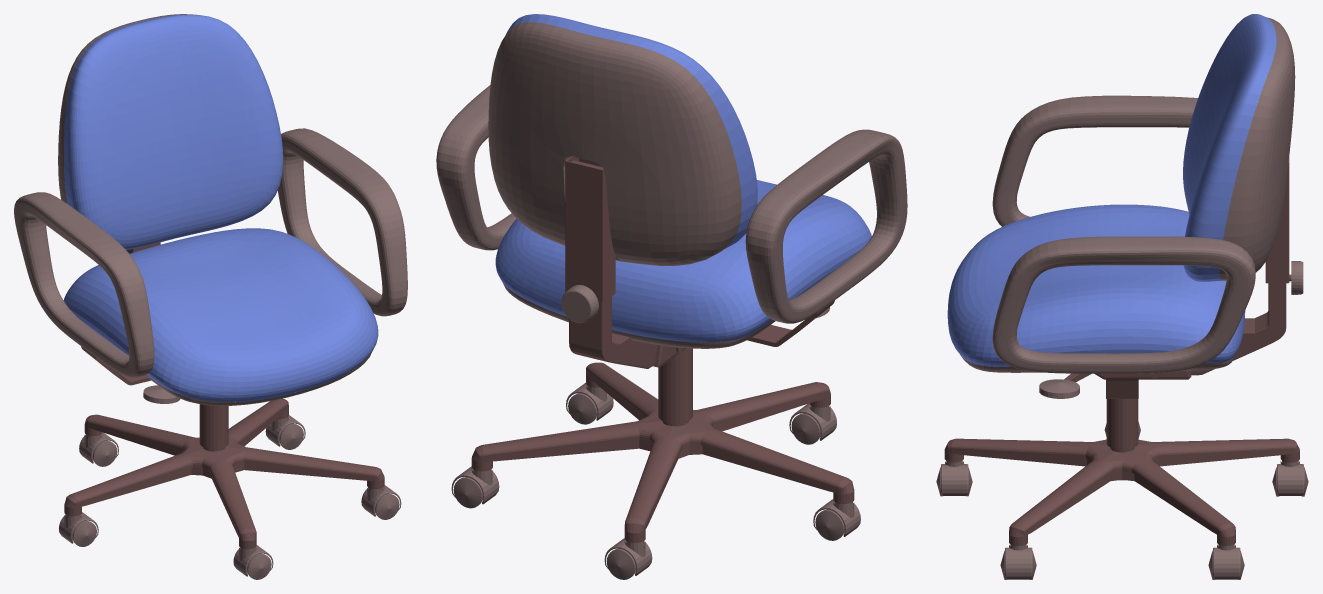
File: kl-office-chair.glb
3 views of the same model, side by side, from view 1: azimuth 30°, elevation 25°; view 2: azimuth 150°, elevation 25°; view 3: azimuth 270°, elevation 25° (orthographic). The views are drawn at different scales.
Parts seen in each view (by area): view 1: Office_CH_back_Office_CH_back_Office_CH_fabric, Office_CH_seat_Office_CH_seat_Office_CH_fabric, Office_CH_arms, Office_CH_base, Office_CH_wheels, Office_CH_post, Office_CH_back_Office_CH_back_Office_CH_plastic, Office_CH_seat_Office_CH_seat_Office_CH_plastic; view 2: Office_CH_back_Office_CH_back_Office_CH_plastic, Office_CH_seat_Office_CH_seat_Office_CH_fabric, Office_CH_arms, Office_CH_base, Office_CH_back_post, Office_CH_wheels, Office_CH_back_Office_CH_back_Office_CH_fabric, Office_CH_post, Office_CH_seat_Office_CH_seat_Office_CH_plastic, Office_CH_mount, Office_CH_knobs_Office_CH_knobs_Office_CH_plastic; view 3: Office_CH_seat_Office_CH_seat_Office_CH_fabric, Office_CH_arms, Office_CH_base, Office_CH_back_Office_CH_back_Office_CH_fabric, Office_CH_back_Office_CH_back_Office_CH_plastic, Office_CH_wheels, Office_CH_back_post, Office_CH_post, Office_CH_mount, Office_CH_knobs_Office_CH_knobs_Office_CH_plastic, Office_CH_seat_Office_CH_seat_Office_CH_plastic.
Part boxes in pixels (x1,y1,x2,y2): Office_CH_back_Office_CH_back_Office_CH_fabric: (64,14,283,249); Office_CH_seat_Office_CH_seat_Office_CH_fabric: (63,228,378,401); Office_CH_arms: (14,128,407,377); Office_CH_base: (64,398,384,549); Office_CH_wheels: (59,415,401,579); Office_CH_post: (199,404,228,451); Office_CH_back_Office_CH_back_Office_CH_plastic: (58,14,192,203); Office_CH_seat_Office_CH_seat_Office_CH_plastic: (145,353,371,405); Office_CH_back_Office_CH_back_Office_CH_plastic: (488,22,741,265); Office_CH_seat_Office_CH_seat_Office_CH_fabric: (495,180,871,342); Office_CH_arms: (436,85,907,323); Office_CH_base: (471,362,854,542); Office_CH_back_post: (565,156,657,368); Office_CH_wheels: (451,383,860,579); Office_CH_back_Office_CH_back_Office_CH_fabric: (506,14,757,248); Office_CH_post: (658,348,692,426); Office_CH_seat_Office_CH_seat_Office_CH_plastic: (503,283,775,348); Office_CH_mount: (653,300,834,367); Office_CH_knobs_Office_CH_knobs_Office_CH_plastic: (561,285,829,323); Office_CH_seat_Office_CH_seat_Office_CH_fabric: (947,204,1245,366); Office_CH_arms: (992,95,1255,373); Office_CH_base: (944,438,1299,546); Office_CH_back_Office_CH_back_Office_CH_fabric: (1183,14,1276,281); Office_CH_back_Office_CH_back_Office_CH_plastic: (1219,17,1295,280); Office_CH_wheels: (936,421,1308,579); Office_CH_back_post: (1190,156,1289,375); Office_CH_post: (1106,399,1138,480); Office_CH_mount: (1094,371,1191,398); Office_CH_knobs_Office_CH_knobs_Office_CH_plastic: (1039,261,1303,398); Office_CH_seat_Office_CH_seat_Office_CH_plastic: (960,354,1235,372).
Bounding box in the file's own units: 0.643 × 0.91 × 0.643.
